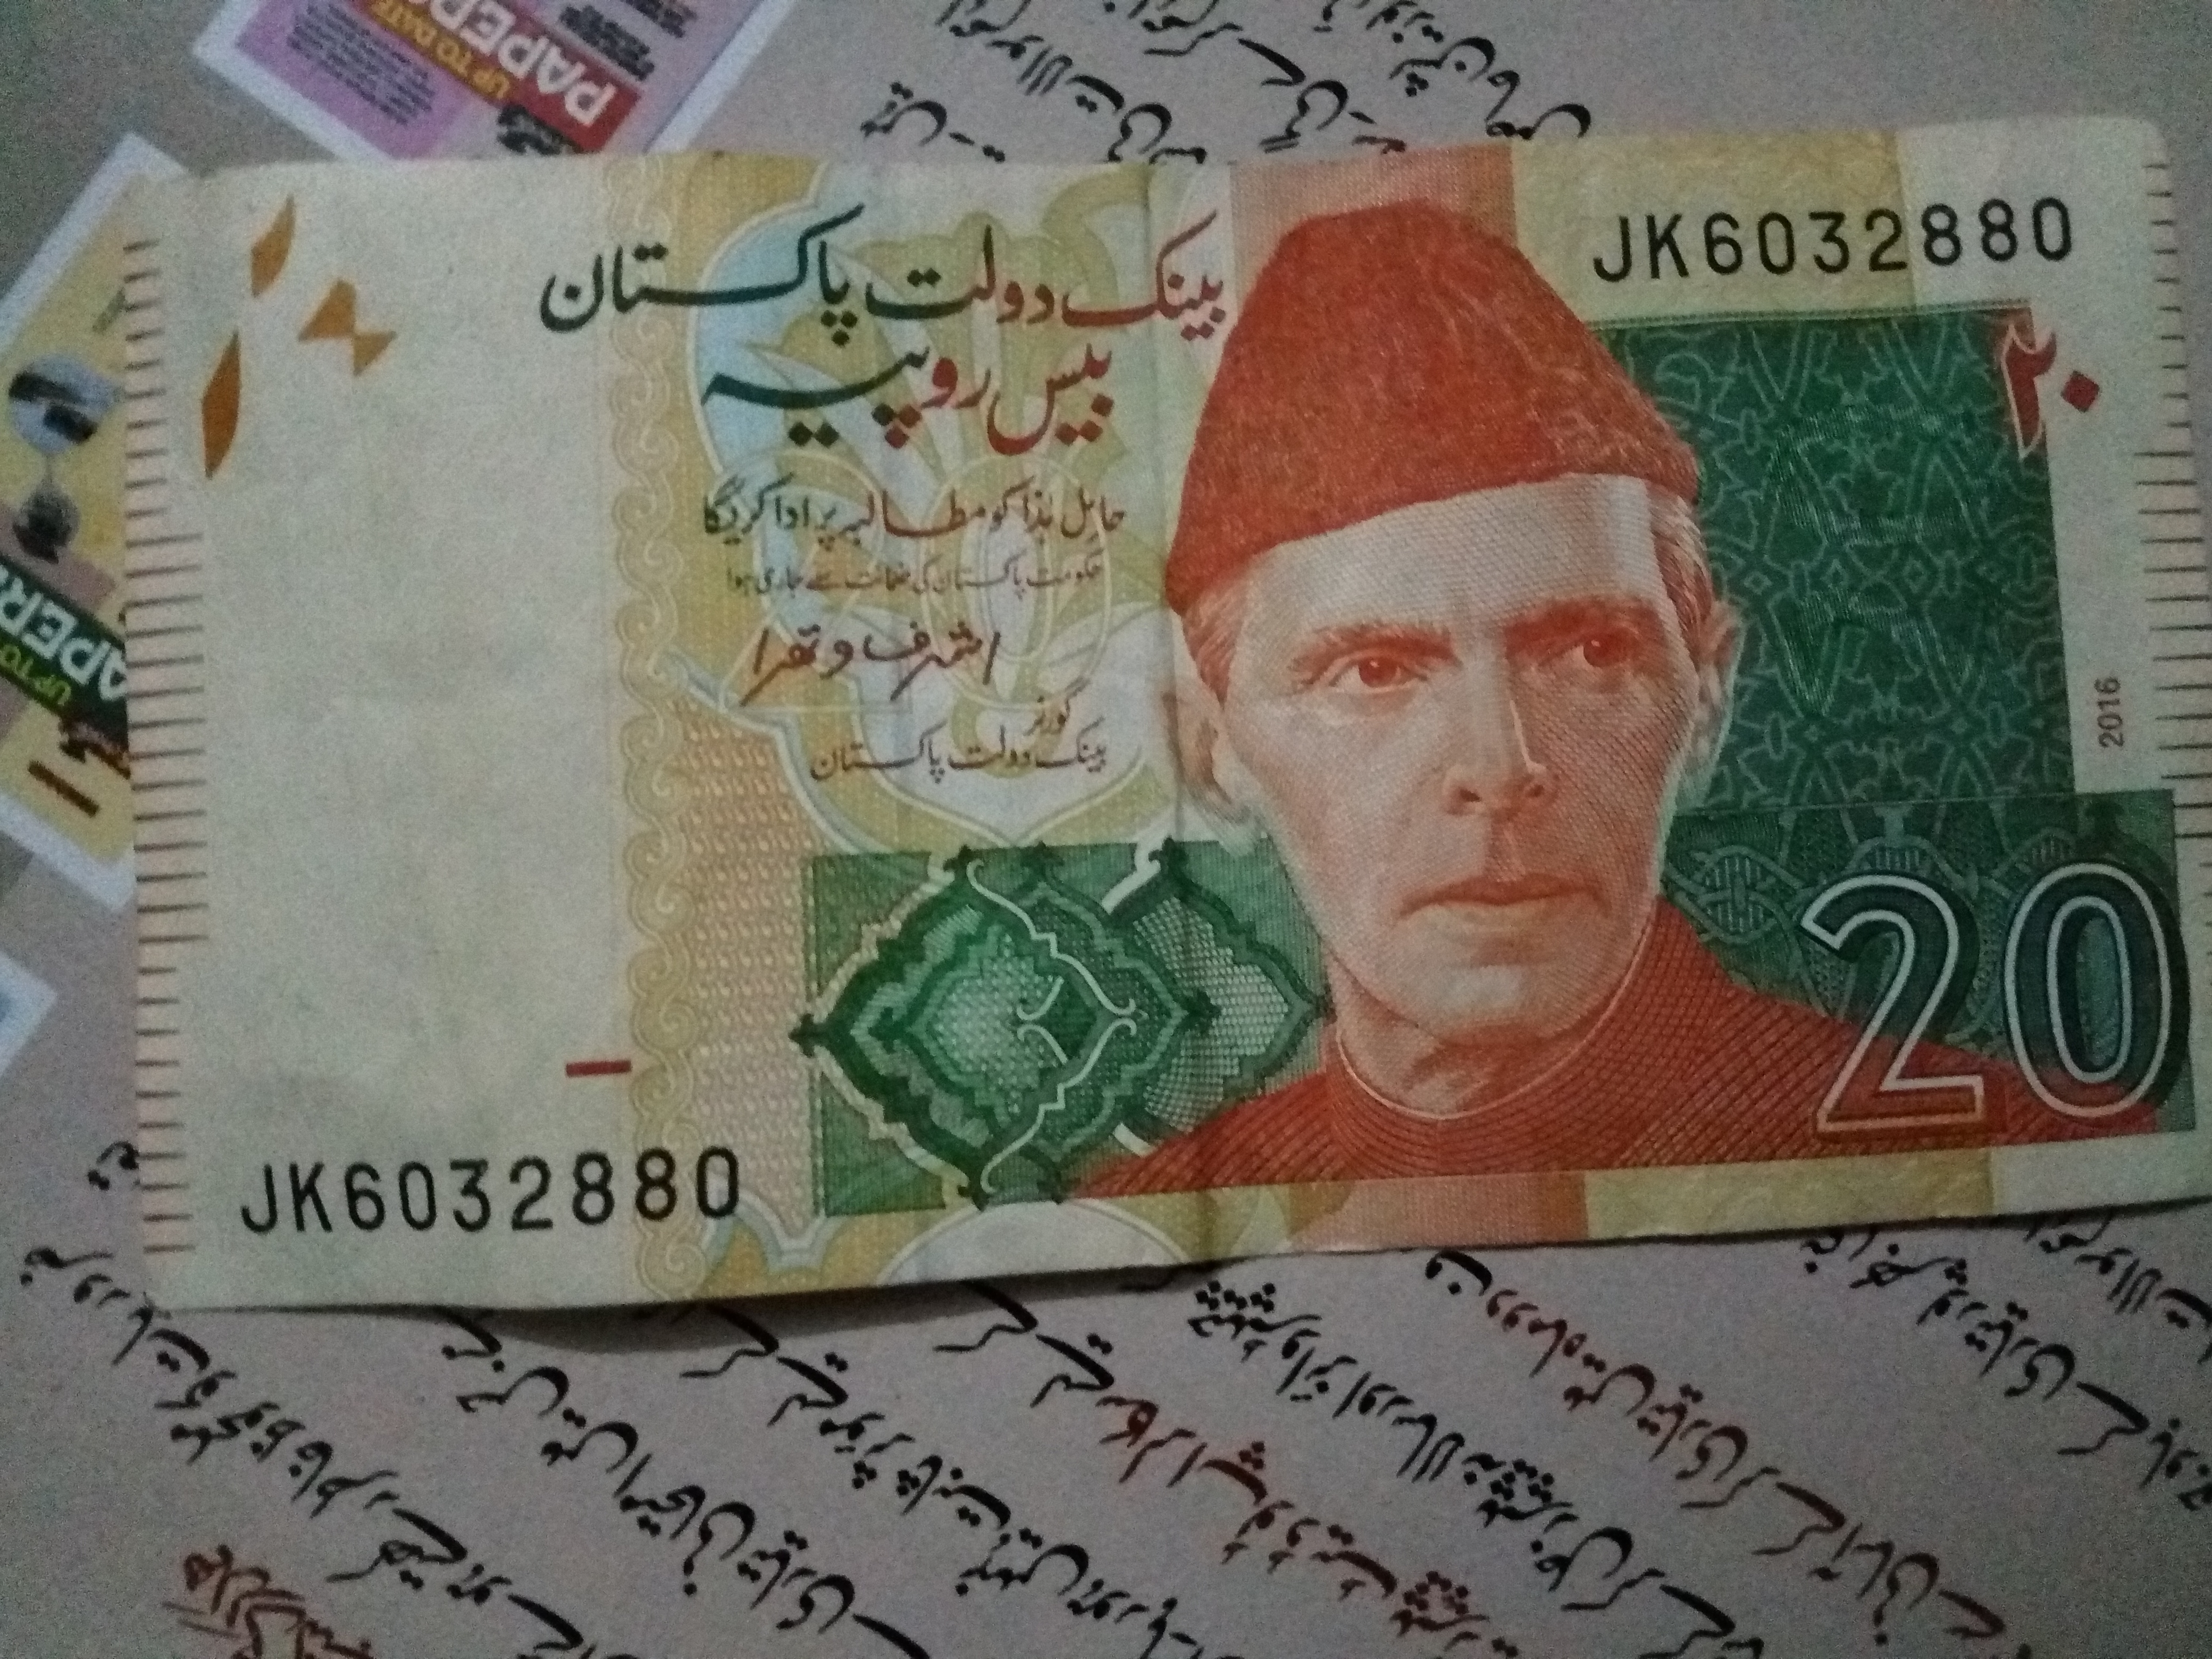20 rupee: (105, 117, 2212, 1377)
